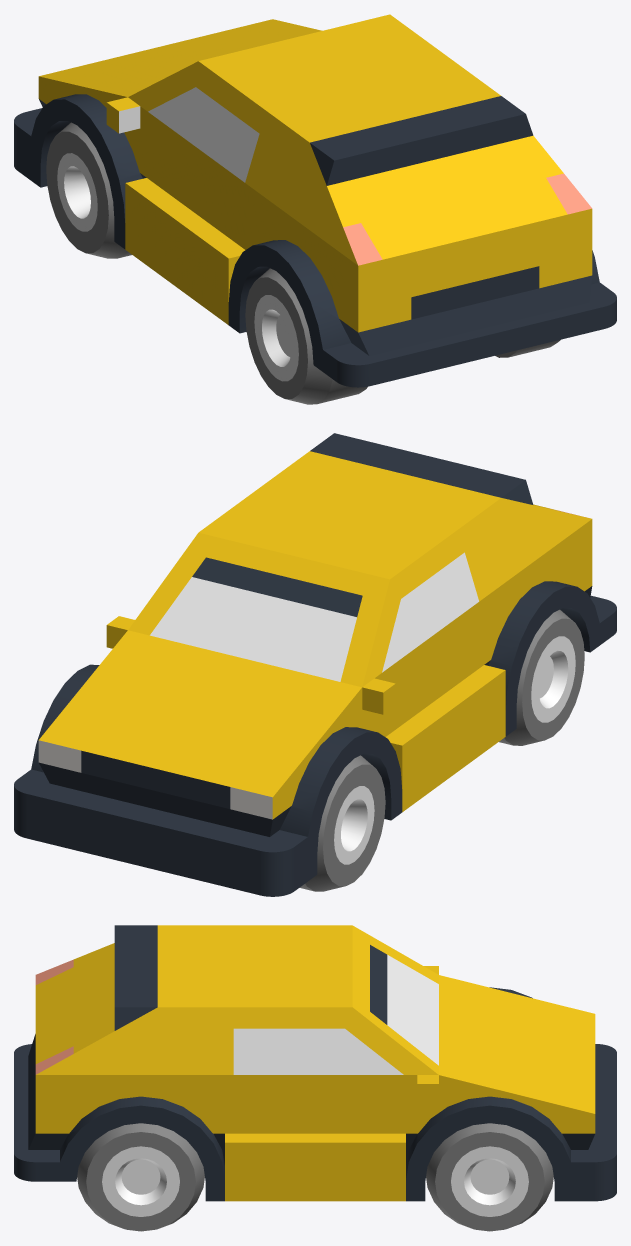
File: hatchbackSports.glb
3 renders of one model, top to bottom at view 1: azimuth 30°, elevation 25°; view 2: azimuth 150°, elevation 25°; view 3: azimuth 270°, elevation 25°, orthographic. The views are drawn at different scales.
Visible parts, largest first — view 1: body, wheel_backLeft, wheel_frontLeft; view 2: body, wheel_backLeft, wheel_frontLeft; view 3: body, wheel_backRight, wheel_frontRight.
Part boxes in pixels (x1=…): body: x1=14, y1=14, x2=616, y2=387; wheel_backLeft: x1=245, y1=268, x2=367, y2=404; wheel_frontLeft: x1=46, y1=122, x2=131, y2=258; body: x1=14, y1=433, x2=616, y2=896; wheel_backLeft: x1=499, y1=609, x2=584, y2=745; wheel_frontLeft: x1=299, y1=755, x2=385, y2=891; body: x1=14, y1=925, x2=616, y2=1201; wheel_backRight: x1=77, y1=1123, x2=204, y2=1231; wheel_frontRight: x1=426, y1=1123, x2=553, y2=1231.
Size of the model in its own units: 1.3 by 1.1 by 2.8.
